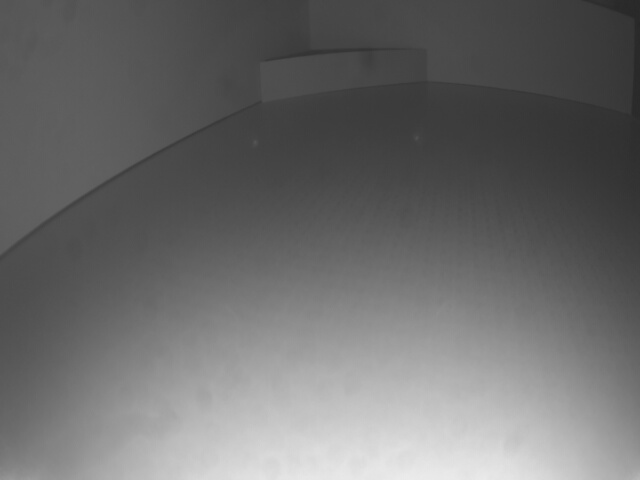Red: (258, 50, 426, 103)
